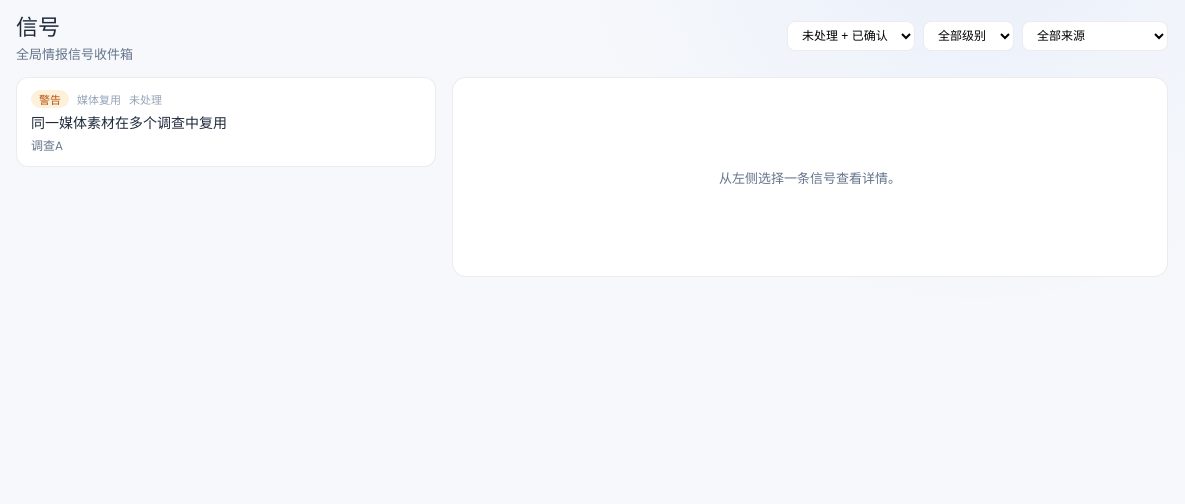
it: SignalsView (V3 §59) › renders derived signal detail with detector state and related cases
Step 1. Click the button with class "sigview__card" → (226, 122), box [16, 77, 436, 167]
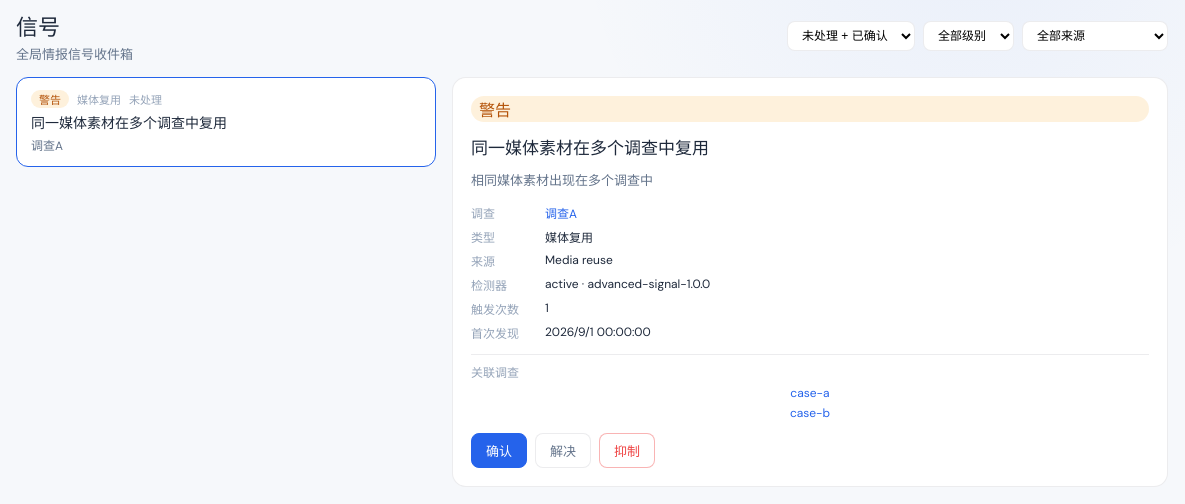
Check: the text "Media reuse" is shown, box [545, 252, 613, 270]
Check: the text "advanced-signal-1.0.0" is shown, box [545, 276, 710, 292]
Check: the text "active" is shown, box [545, 276, 710, 292]
